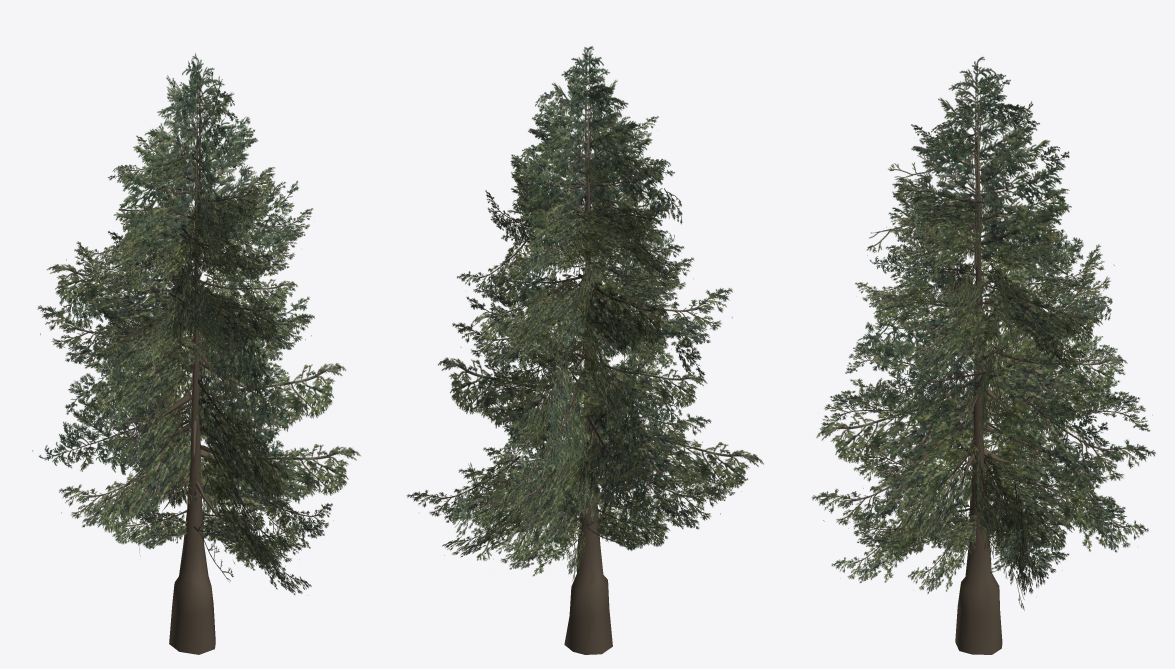
File: cypress_a.glb
3 renders of one model, left to right at view 1: azimuth 30°, elevation 25°; view 2: azimuth 150°, elevation 25°; view 3: azimuth 270°, elevation 25°, orthographic.
Visible parts, largest first — view 1: Tree_Branches_01.002_w; view 2: Tree_Branches_01.002_w; view 3: Tree_Branches_01.002_w.
Part boxes in pixels (x1,y1,x2,y2): Tree_Branches_01.002_w: (32,53,360,654); Tree_Branches_01.002_w: (407,46,763,654); Tree_Branches_01.002_w: (812,57,1155,654).
Size of the model in its own units: 8.72 by 16 by 8.73.
Materials: 2 (2 with a texture image).
